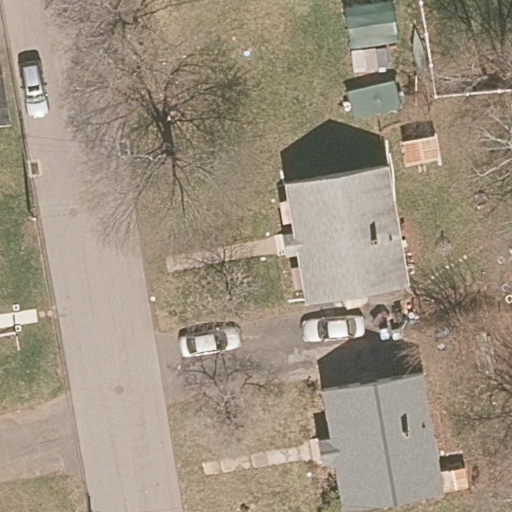DT: (21, 202, 41, 225)
